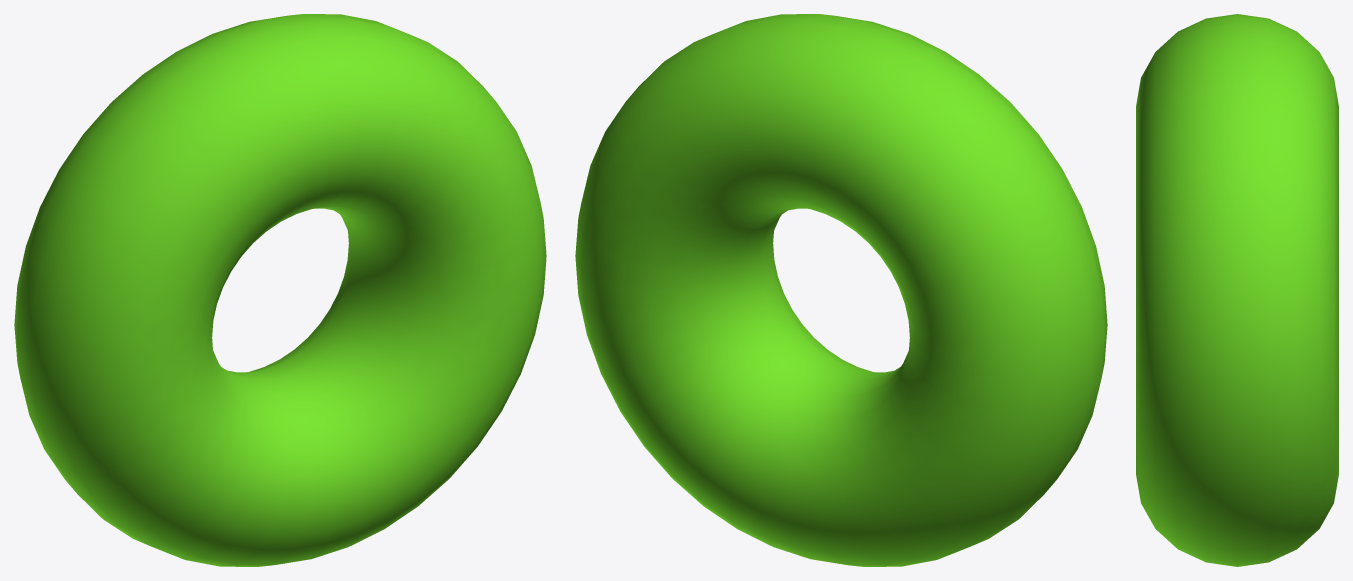
File: hoop.fbx
The picture shows the model from 3 angles, left to right: view 1: azimuth 30°, elevation 25°; view 2: azimuth 150°, elevation 25°; view 3: azimuth 270°, elevation 25°; orthographic projection. The views are drawn at different scales.
Parts seen in each view (by area): view 1: QuadHoop_0_0; view 2: QuadHoop_0_0; view 3: QuadHoop_0_0.
Part boxes in pixels (x1,y1,x2,y2): QuadHoop_0_0: [14, 14, 546, 566]; QuadHoop_0_0: [575, 14, 1107, 566]; QuadHoop_0_0: [1136, 14, 1338, 566].
Bounding box in the file's own units: 90.39 × 90.39 × 33.14.
